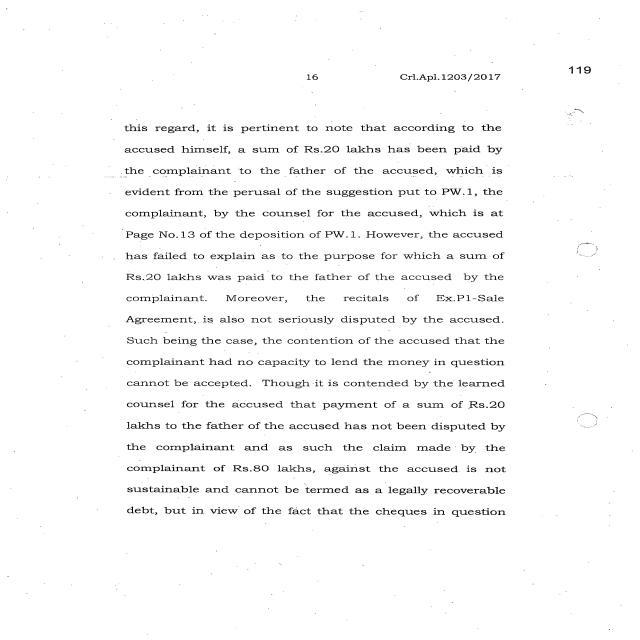page-number: (506, 9, 632, 166)
